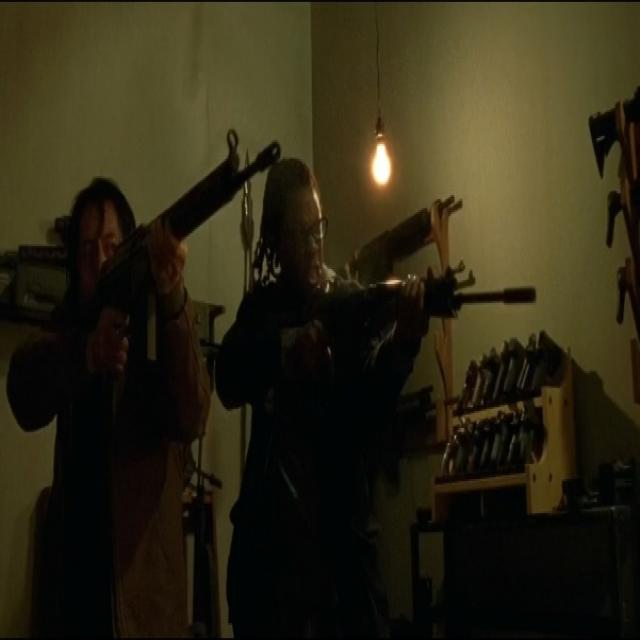rifle: (99, 127, 284, 334), (292, 267, 538, 348)
